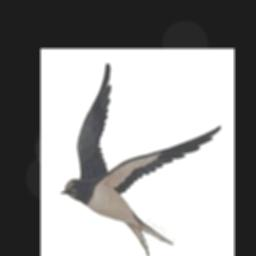Swallow: (59, 62, 221, 254)
